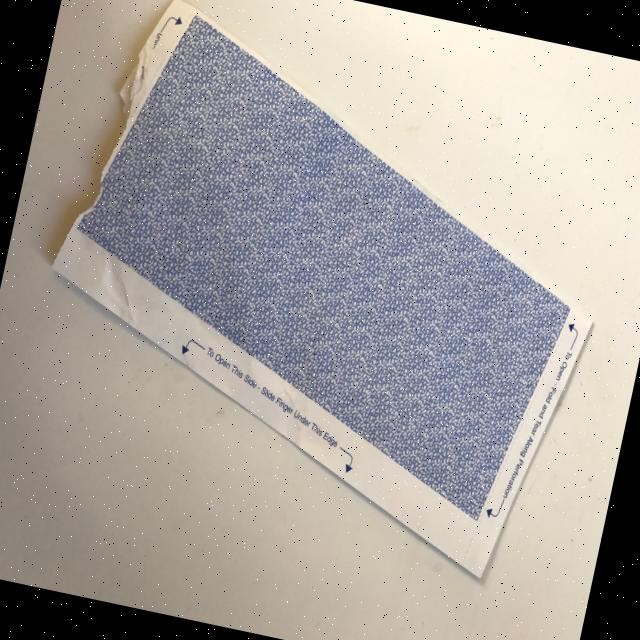paper: (5, 0, 640, 592)
